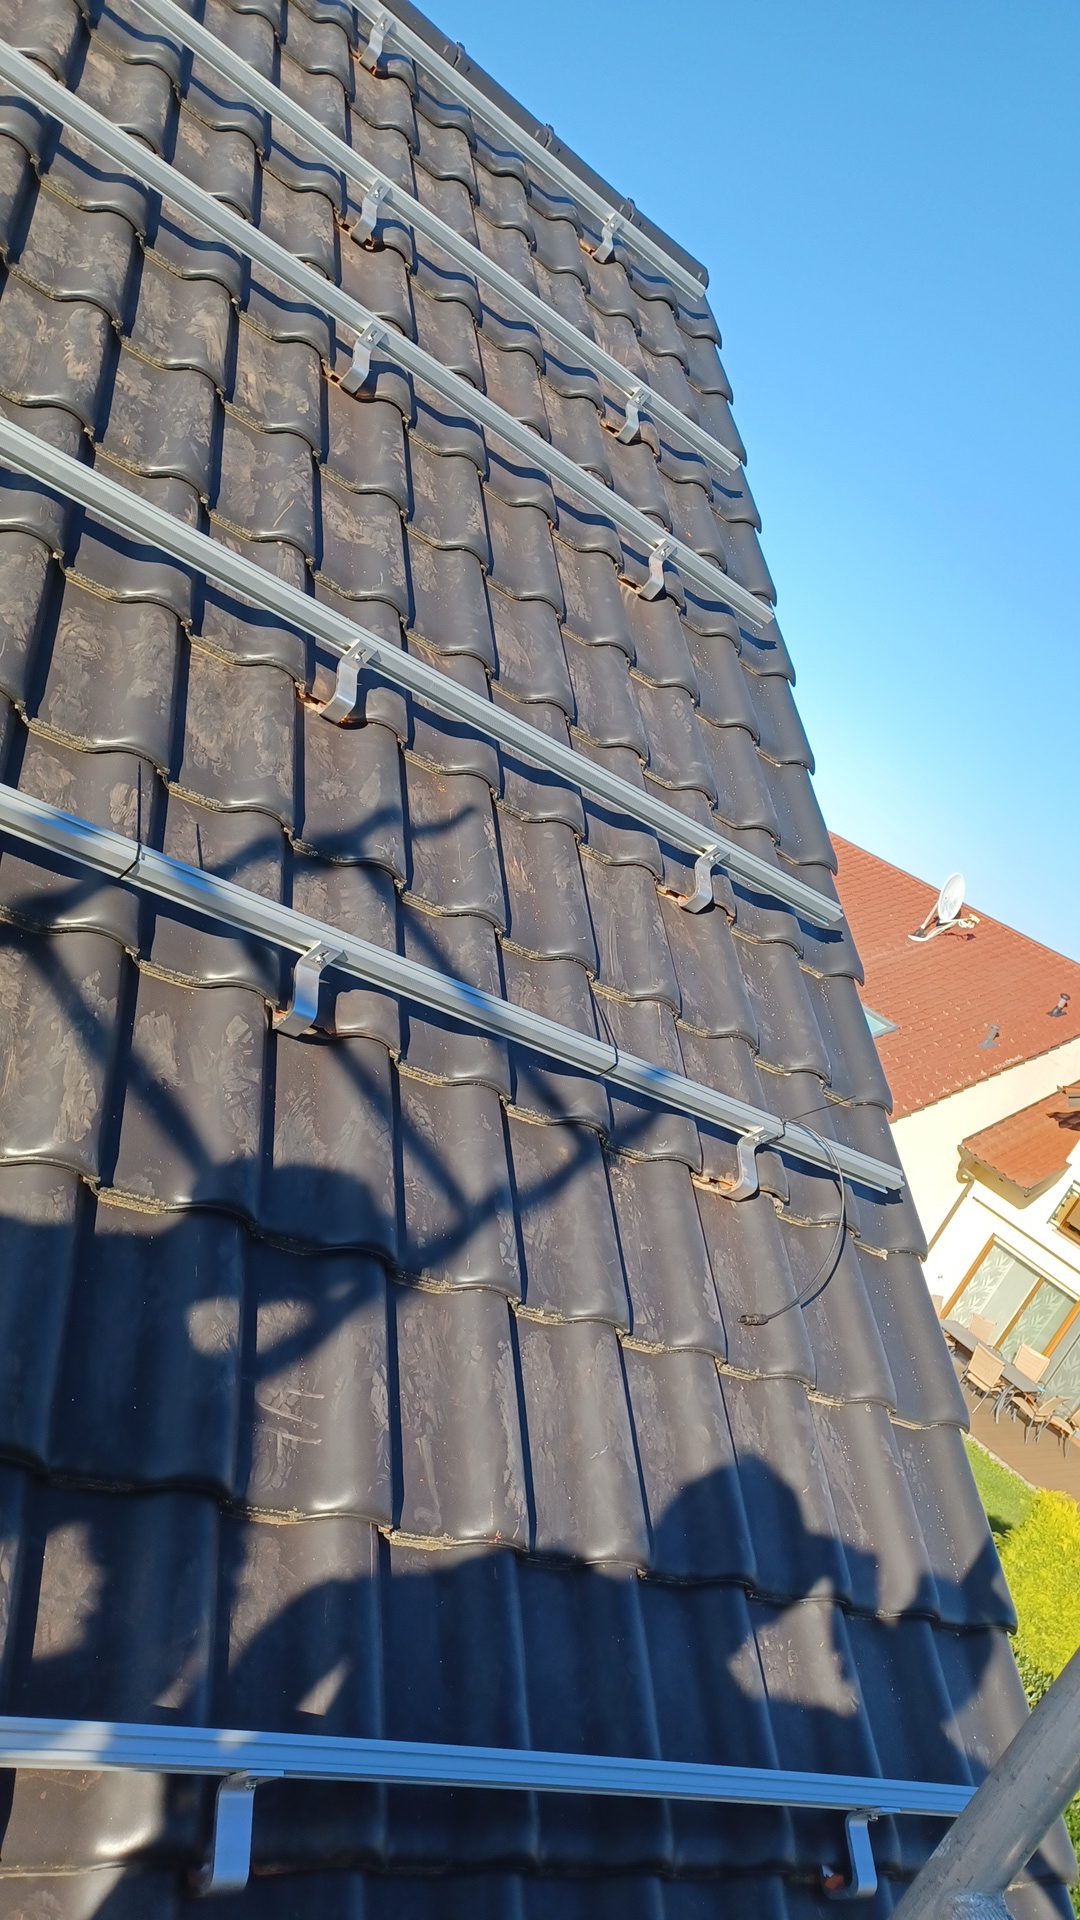hook: (186, 1768, 284, 1896), (818, 1805, 899, 1902), (272, 940, 343, 1036), (316, 638, 378, 723), (717, 1125, 781, 1203), (678, 844, 731, 914), (338, 320, 386, 393), (349, 175, 392, 243), (636, 538, 676, 601), (357, 12, 396, 69), (615, 386, 651, 444), (589, 214, 624, 264)
